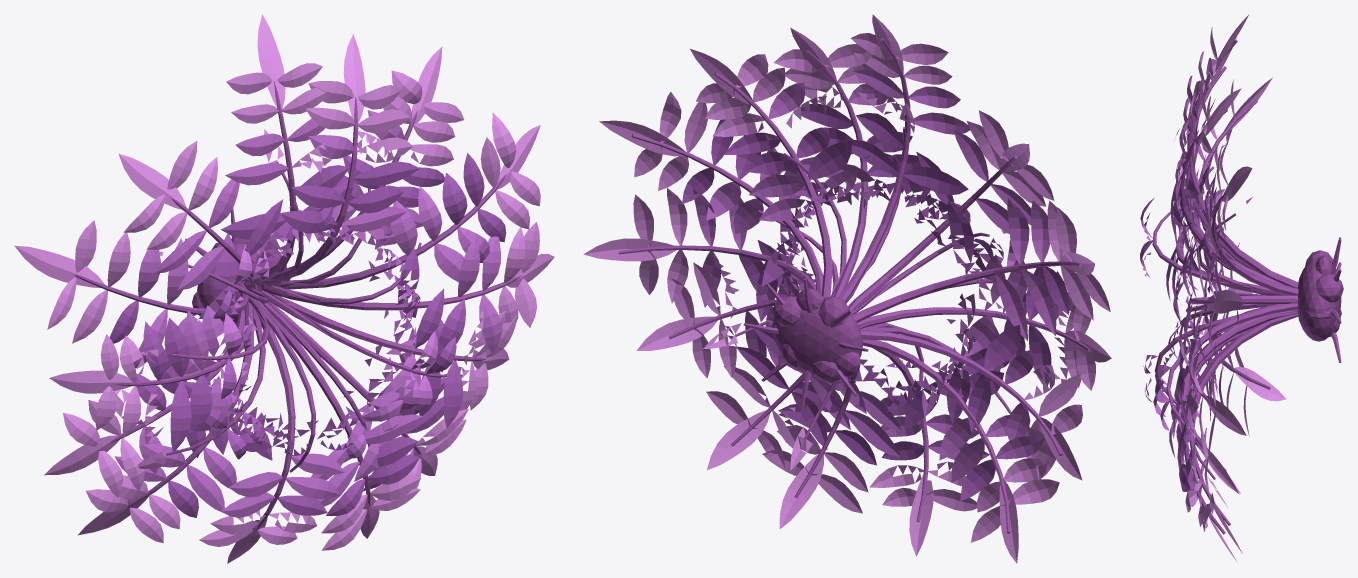
File: large_purple_alien_fern_v2_LOD2.glb
The picture shows the model from 3 angles, left to right: view 1: azimuth 30°, elevation 25°; view 2: azimuth 150°, elevation 25°; view 3: azimuth 270°, elevation 25°; orthographic projection. The views are drawn at different scales.
Visible parts, largest first — view 1: leaf_light, leaf_mid, leaf_dark, stem, core; view 2: leaf_light, leaf_dark, leaf_mid, stem, core; view 3: stem, leaf_light, leaf_dark, leaf_mid, core.
Boxes of the visible parts, x1=… form: leaf_light: x1=14, y1=14, x2=554, y2=563; leaf_mid: x1=114, y1=110, x2=502, y2=517; leaf_dark: x1=109, y1=153, x2=506, y2=517; stem: x1=74, y1=81, x2=521, y2=530; core: x1=192, y1=237, x2=286, y2=323; leaf_light: x1=583, y1=14, x2=1111, y2=563; leaf_dark: x1=682, y1=103, x2=1069, y2=500; leaf_mid: x1=693, y1=69, x2=1056, y2=482; stem: x1=618, y1=38, x2=1090, y2=533; core: x1=771, y1=288, x2=862, y2=382; stem: x1=1152, y1=39, x2=1341, y2=534; leaf_light: x1=1173, y1=14, x2=1286, y2=562; leaf_dark: x1=1140, y1=148, x2=1240, y2=491; leaf_mid: x1=1140, y1=75, x2=1225, y2=464; core: x1=1297, y1=250, x2=1343, y2=341.
Bounding box in the file's own units: 7.45 × 7.36 × 2.69.
